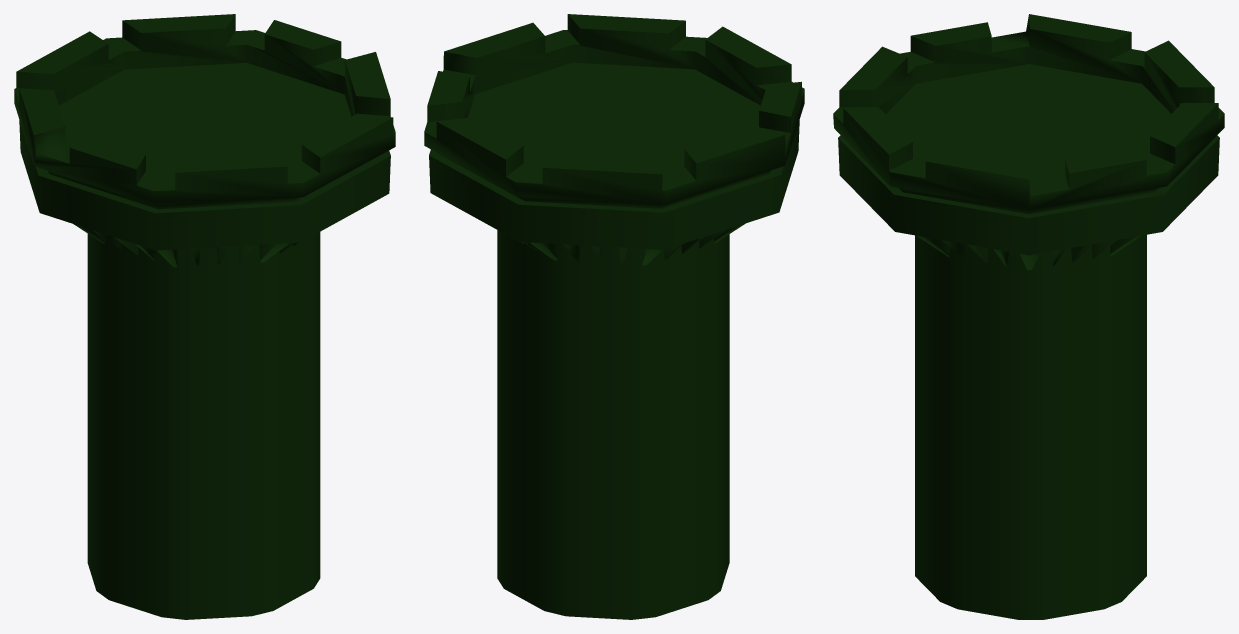
The model's file is round-tower-base-3.fbx.
3 renders of one model, left to right at view 1: azimuth 30°, elevation 25°; view 2: azimuth 150°, elevation 25°; view 3: azimuth 270°, elevation 25°, orthographic.
Parts seen in each view (by area): view 1: round-tower-base-3; view 2: round-tower-base-3; view 3: round-tower-base-3.
Boxes of the visible parts, x1=… form: round-tower-base-3: x1=14, y1=14, x2=395, y2=619; round-tower-base-3: x1=424, y1=14, x2=804, y2=619; round-tower-base-3: x1=833, y1=14, x2=1224, y2=619.
Size of the model in its own units: 6.43 by 8.6 by 6.43.
